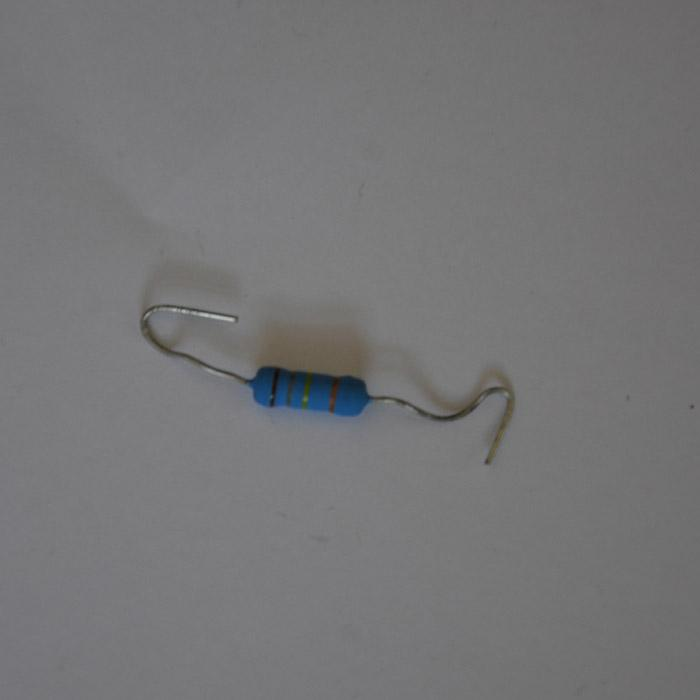resistor: (248, 365, 370, 416)
